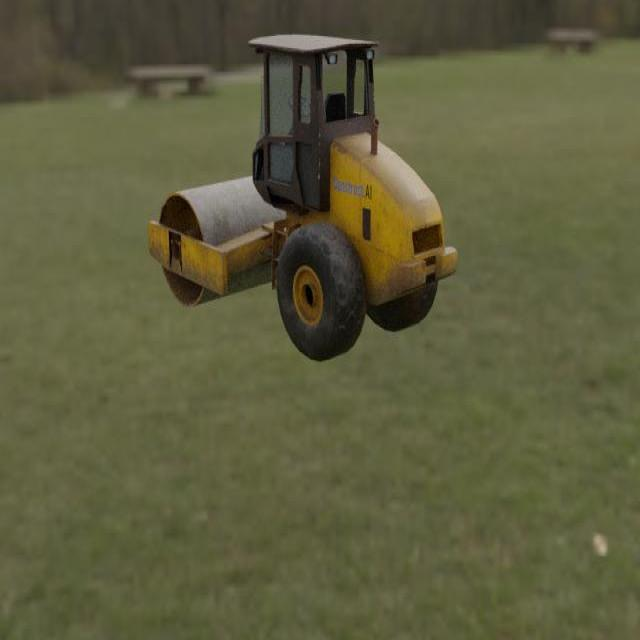Roller: (147, 33, 457, 363)
